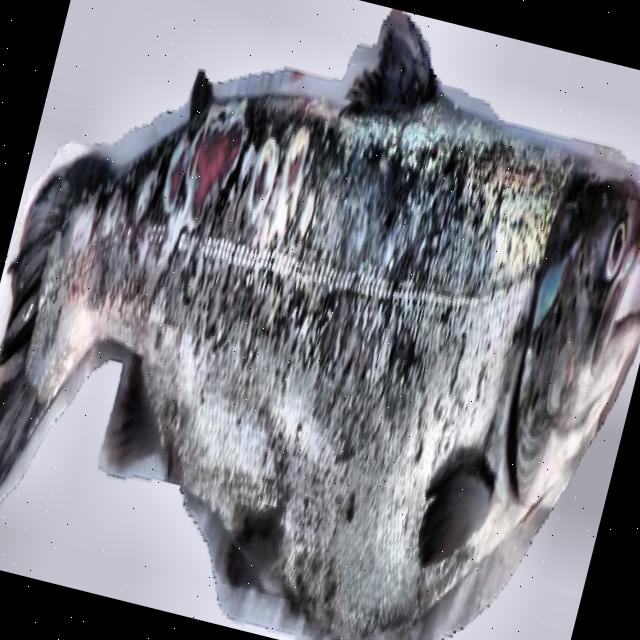mild_red: (28, 111, 560, 632)
wound: (192, 124, 242, 213), (166, 141, 185, 199), (252, 155, 270, 204), (289, 146, 306, 183)
